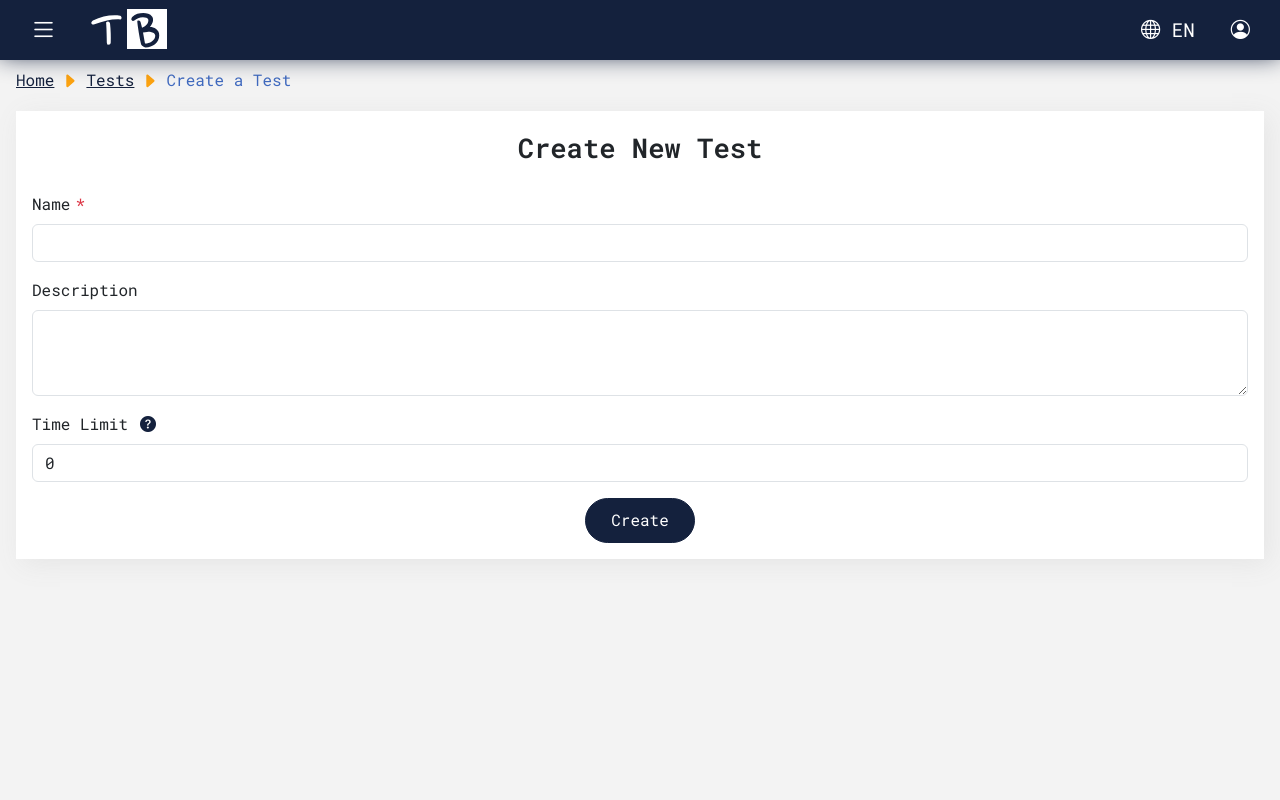
Test case: CreateTestView › submit valid values
Type "Test name" into the field with id "test-input-name" at (640, 243), box [32, 224, 1248, 262]
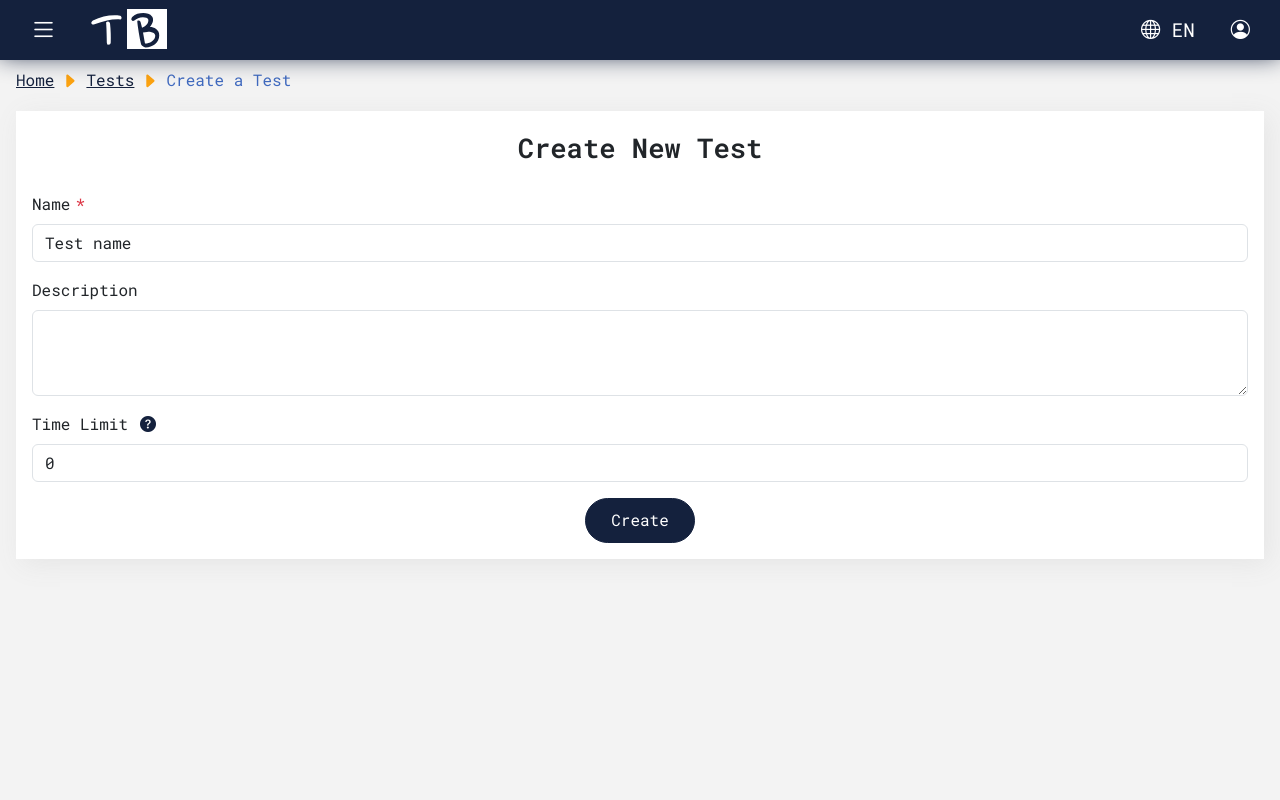
Replace the text in the number field with id "test-input-timelimit" with "123" at (640, 463), box [32, 444, 1248, 482]
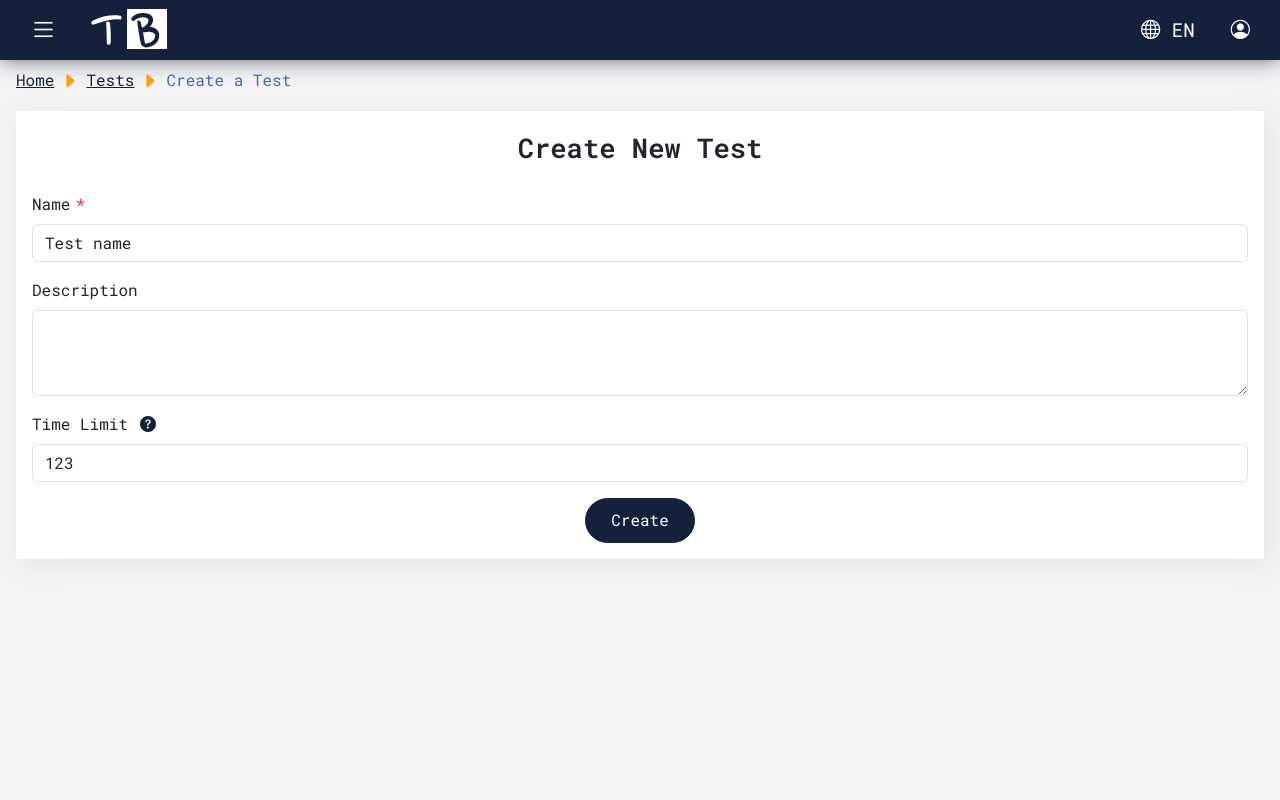
Click the button "Create" at (640, 520), box [585, 498, 695, 543]
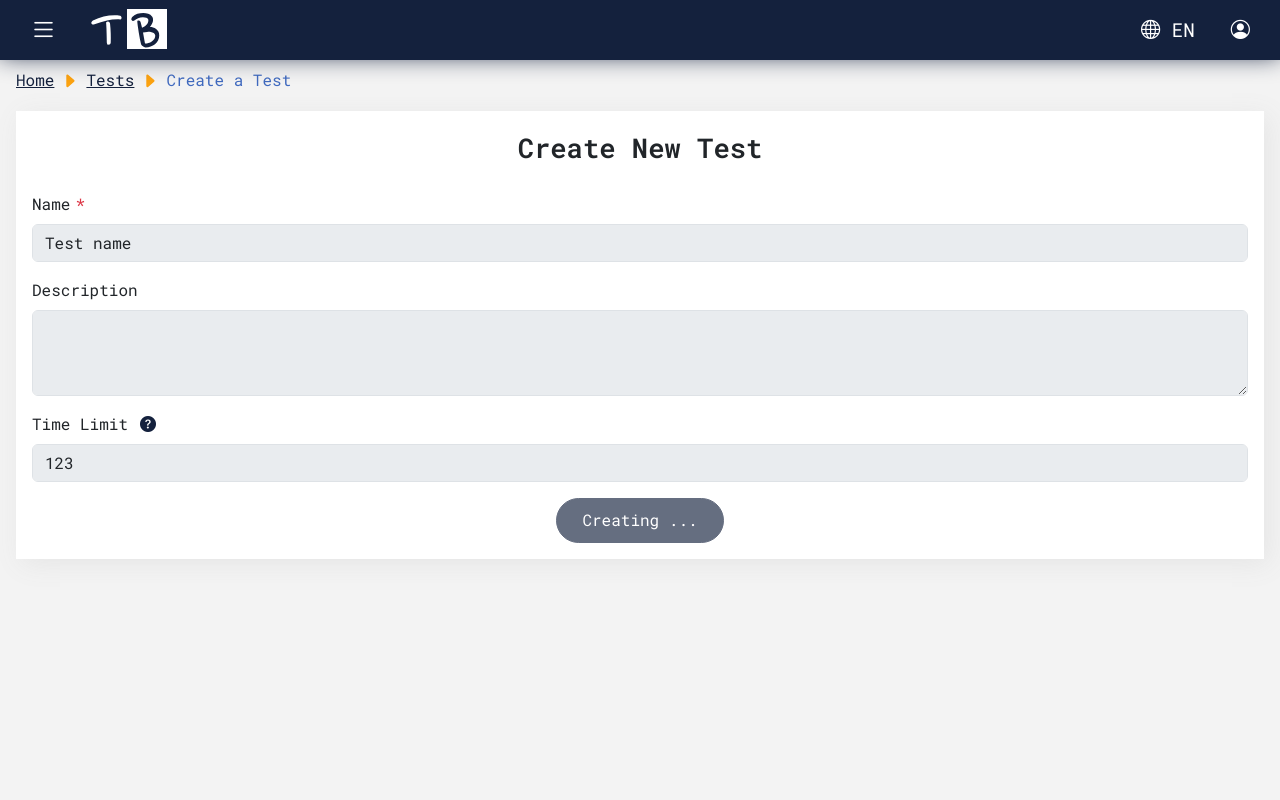
Expected: the button "Creating ..." is shown, [556, 498, 724, 543]
